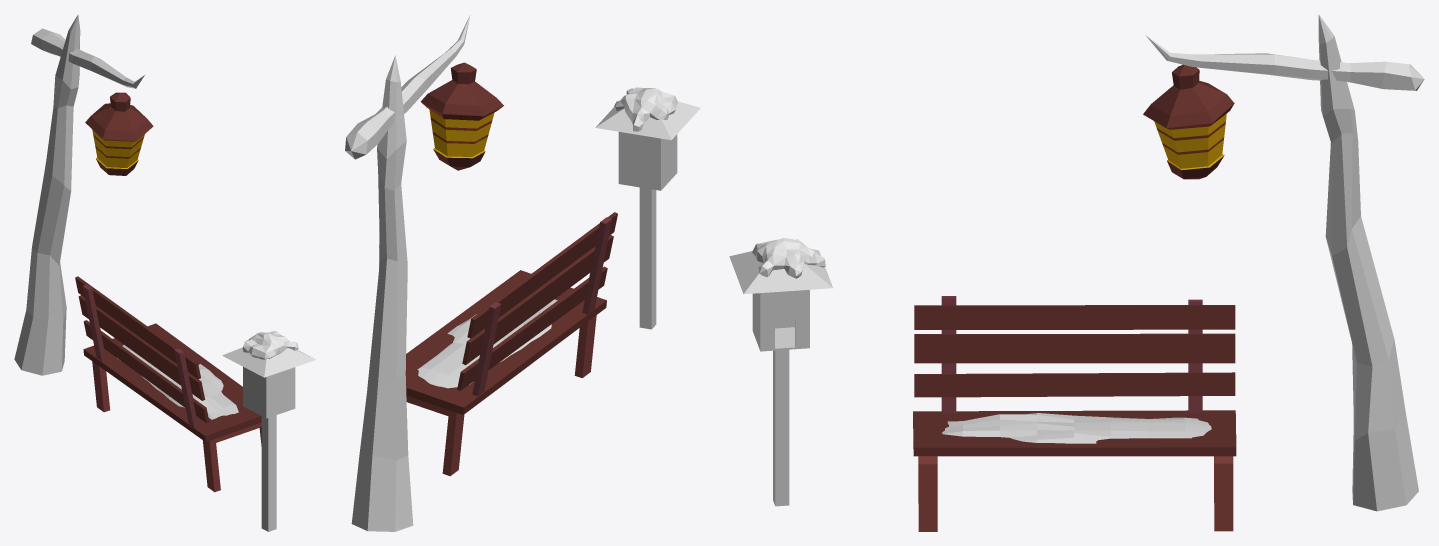
The model's file is Bench.fbx.
3 renders of one model, left to right at view 1: azimuth 30°, elevation 25°; view 2: azimuth 150°, elevation 25°; view 3: azimuth 270°, elevation 25°, orthographic. The views are drawn at different scales.
Visible parts, largest first — view 1: Bench, LampPost, BirdHouse, Lamp, BenchSnow, BirdHouseSnow; view 2: LampPost, Bench, BirdHouse, Lamp, BenchSnow, BirdHouseSnow; view 3: Bench, LampPost, BirdHouse, Lamp, BenchSnow, BirdHouseSnow.
Boxes of the visible parts, bbox=[...] form: Bench: bbox=[75, 276, 261, 492]; LampPost: bbox=[14, 14, 144, 375]; BirdHouse: bbox=[222, 347, 316, 531]; Lamp: bbox=[85, 92, 153, 175]; BenchSnow: bbox=[117, 345, 238, 419]; BirdHouseSnow: bbox=[242, 331, 298, 359]; LampPost: bbox=[345, 15, 470, 531]; Bench: bbox=[405, 212, 617, 476]; BirdHouse: bbox=[595, 95, 700, 329]; Lamp: bbox=[420, 62, 503, 170]; BenchSnow: bbox=[417, 299, 557, 388]; BirdHouseSnow: bbox=[614, 87, 677, 131]; Bench: bbox=[913, 296, 1236, 531]; LampPost: bbox=[1145, 14, 1424, 511]; BirdHouse: bbox=[729, 249, 832, 506]; Lamp: bbox=[1143, 64, 1234, 179]; BenchSnow: bbox=[942, 413, 1211, 443]; BirdHouseSnow: bbox=[752, 238, 825, 278].
Bounding box in the file's own units: 122 × 468 × 596.
